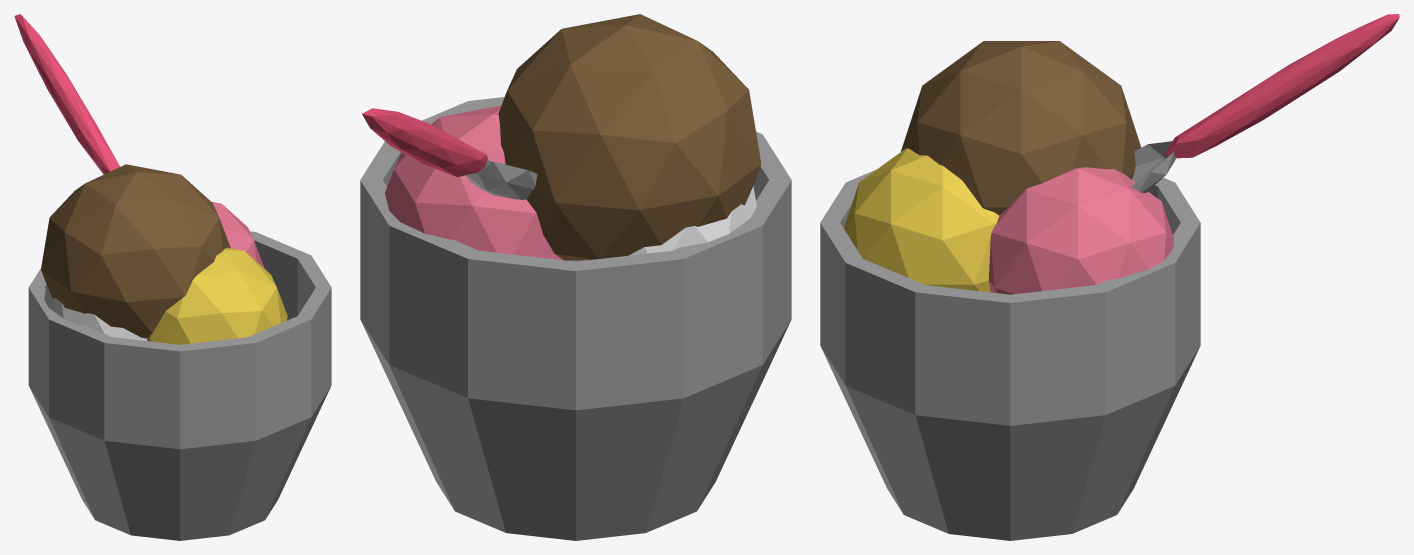
Rendered from Helado.fbx.
3 renders of one model, left to right at view 1: azimuth 30°, elevation 25°; view 2: azimuth 150°, elevation 25°; view 3: azimuth 270°, elevation 25°, orthographic. The views are drawn at different scales.
Parts seen in each view (by area): view 1: Helado; view 2: Helado; view 3: Helado.
Part boxes in pixels (bbox=[...]): Helado: bbox=[14, 14, 331, 540]; Helado: bbox=[360, 14, 791, 540]; Helado: bbox=[820, 14, 1399, 540].
Bounding box in the file's own units: 3367 × 4590 × 5129.
